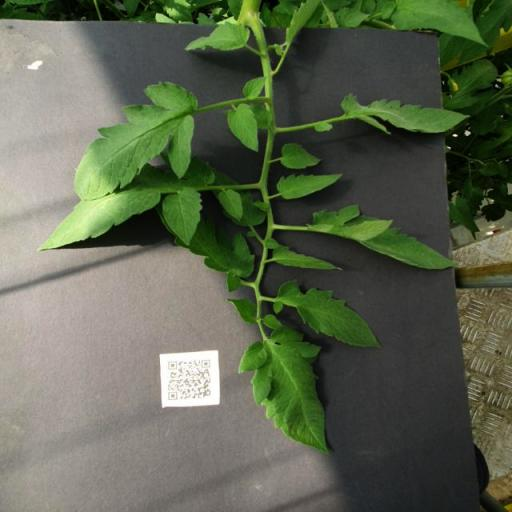Healthy: (38, 153, 216, 252), (74, 82, 200, 200), (237, 326, 331, 456), (306, 205, 458, 270), (274, 278, 382, 348), (341, 92, 471, 136), (184, 20, 250, 52), (276, 173, 344, 199), (227, 103, 259, 153), (280, 142, 321, 170)
